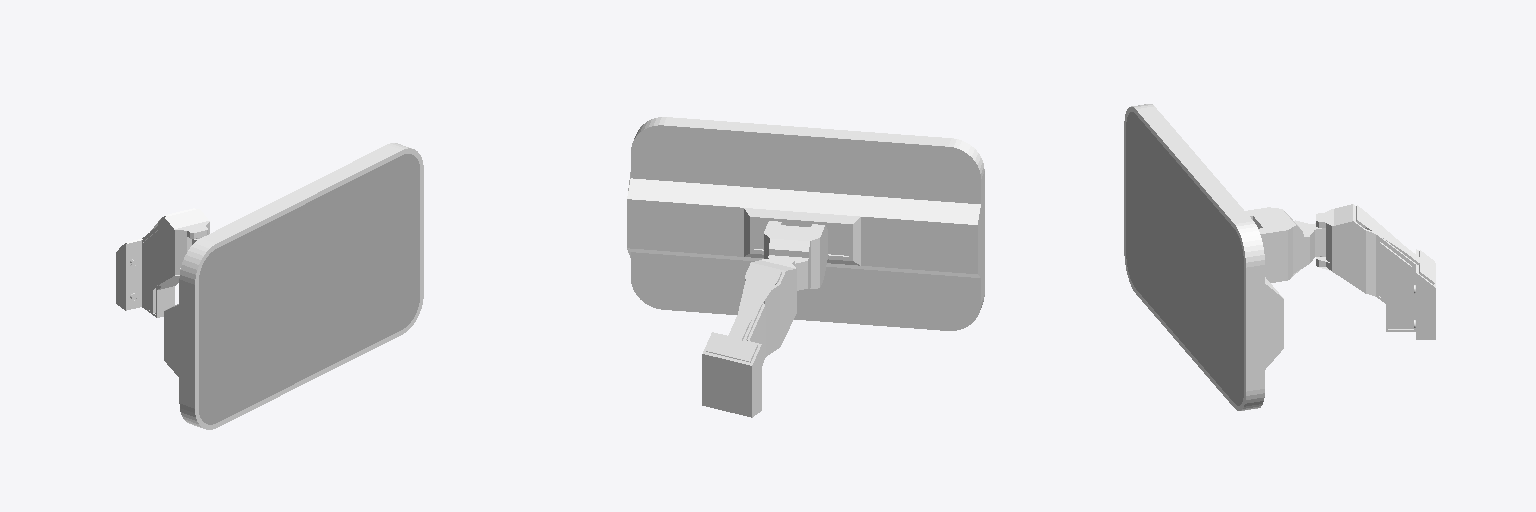
The picture shows the model from 3 angles: view 1: azimuth 30°, elevation 25°; view 2: azimuth 150°, elevation 25°; view 3: azimuth 270°, elevation 25°; orthographic projection.
Visible parts, largest first — view 1: Monitor_Monitor_Material.002, Monitor_Monitor_Material.011; view 2: Monitor_Monitor_Material.011; view 3: Monitor_Monitor_Material.011, Monitor_Monitor_Material.002.
Boxes of the visible parts, box(x1,y1,x2,y2) form: Monitor_Monitor_Material.002: box(199, 154, 419, 424); Monitor_Monitor_Material.011: box(116, 143, 423, 429); Monitor_Monitor_Material.011: box(627, 117, 984, 417); Monitor_Monitor_Material.011: box(1124, 104, 1435, 410); Monitor_Monitor_Material.002: box(1126, 112, 1243, 405).
Bounding box in the file's own units: 1.72 × 1 × 1.53.